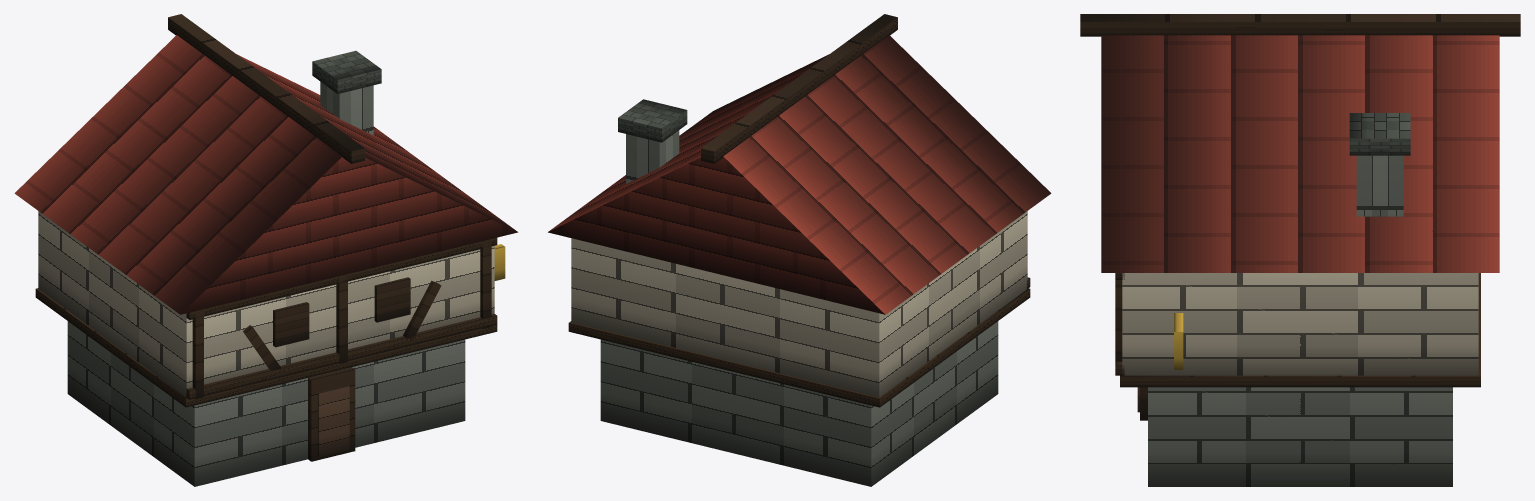
The model's file is tavern.gltf.
3 renders of one model, left to right at view 1: azimuth 30°, elevation 25°; view 2: azimuth 150°, elevation 25°; view 3: azimuth 270°, elevation 25°, orthographic. The views are drawn at different scales.
Parts seen in each view (by area): view 1: tavern; view 2: tavern; view 3: tavern.
Part boxes in pixels (box(x1,y1,x2,y2)): tavern: box(14, 14, 517, 486); tavern: box(548, 14, 1051, 486); tavern: box(1080, 14, 1520, 486).
Bounding box in the file's own units: 2.1 × 1.83 × 1.88.
1 material, 1 textured.
